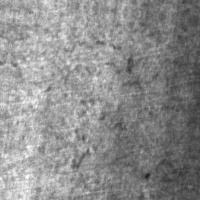crazing: (32, 31, 187, 113), (68, 108, 197, 185)
